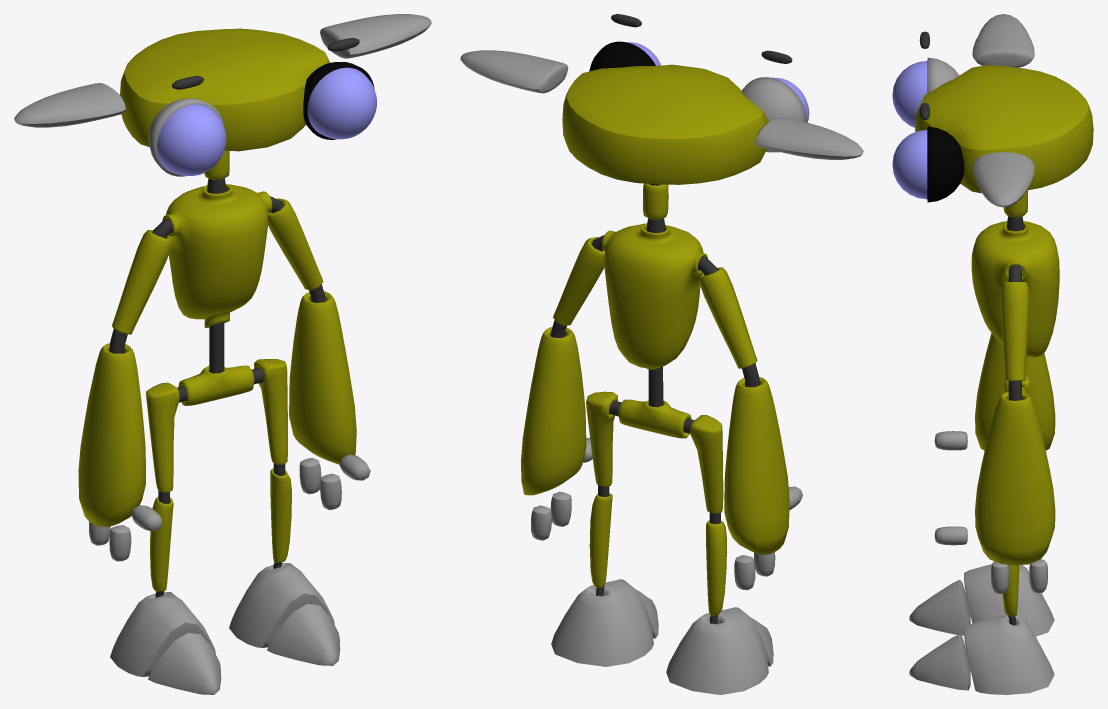
The model's file is die1.obj.
The picture shows the model from 3 angles, left to right: view 1: azimuth 30°, elevation 25°; view 2: azimuth 150°, elevation 25°; view 3: azimuth 270°, elevation 25°; orthographic projection. The views are drawn at different scales.
Parts seen in each view (by area): view 1: Mesh polySurface50, Mesh polySurface41, Mesh polySurface37, Mesh polySurface18, Mesh polySurface48, Mesh polySurface6, Mesh polySurface22, Mesh polySurface10, Mesh polySurface26, Mesh polySurface24, Mesh polySurface8, Mesh polySurface38 (+13 smaller); view 2: Mesh polySurface41, Mesh polySurface50, Mesh polySurface48, Mesh polySurface37, Mesh polySurface18, Mesh polySurface26, Mesh polySurface10, Mesh polySurface38, Mesh polySurface47, Mesh polySurface44, Mesh polySurface28, Mesh polySurface12 (+7 smaller); view 3: Mesh polySurface18, Mesh polySurface50, Mesh polySurface41, Mesh polySurface10, Mesh polySurface48, Mesh polySurface37, Mesh polySurface26, Mesh polySurface44, Mesh polySurface51, Mesh polySurface4, Mesh polySurface6, Mesh polySurface8 (+11 smaller).
Boxes of the visible parts, box(x1,y1,x2,y2) form: Mesh polySurface50: box(124, 28, 327, 105); Mesh polySurface41: box(162, 184, 272, 327); Mesh polySurface37: box(78, 343, 145, 526); Mesh polySurface18: box(289, 291, 356, 464); Mesh polySurface48: box(120, 55, 329, 151); Mesh polySurface6: box(307, 67, 376, 139); Mesh polySurface22: box(157, 104, 226, 175); Mesh polySurface10: box(229, 563, 334, 647); Mesh polySurface26: box(110, 592, 215, 676); Mesh polySurface24: box(148, 633, 221, 694); Mesh polySurface8: box(267, 604, 340, 665); Mesh polySurface38: box(112, 229, 172, 334); Mesh polySurface41: box(602, 223, 707, 369); Mesh polySurface50: box(566, 64, 763, 138); Mesh polySurface48: box(562, 89, 767, 184); Mesh polySurface37: box(724, 377, 789, 554); Mesh polySurface18: box(521, 327, 586, 495); Mesh polySurface26: box(666, 607, 768, 694); Mesh polySurface10: box(551, 579, 653, 666); Mesh polySurface38: box(699, 267, 757, 368); Mesh polySurface47: box(755, 117, 863, 156); Mesh polySurface44: box(460, 50, 566, 89); Mesh polySurface28: box(690, 415, 723, 513); Mesh polySurface12: box(586, 391, 618, 486); Mesh polySurface18: box(975, 392, 1055, 565); Mesh polySurface50: box(919, 65, 1088, 149); Mesh polySurface41: box(971, 221, 1059, 359); Mesh polySurface10: box(964, 615, 1054, 694); Mesh polySurface48: box(915, 100, 1093, 193); Mesh polySurface37: box(975, 333, 1055, 450); Mesh polySurface26: box(964, 564, 1054, 636); Mesh polySurface44: box(972, 152, 1034, 205); Mesh polySurface51: box(1000, 282, 1029, 380); Mesh polySurface4: box(927, 126, 964, 202); Mesh polySurface6: box(892, 130, 927, 199); Mesh polySurface8: box(909, 634, 968, 690).
Size of the model in its own units: 10.05 by 14.23 by 4.49.
